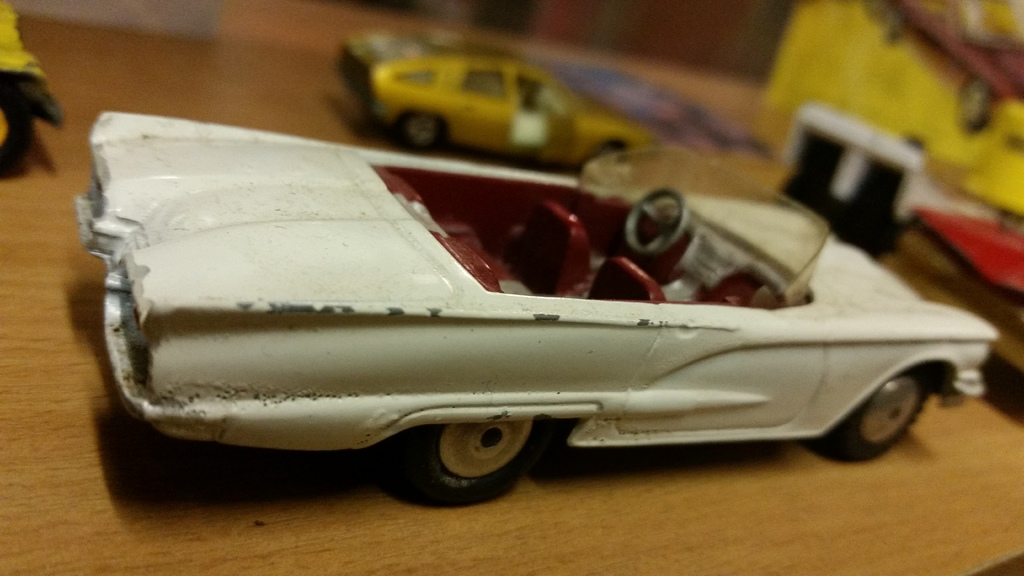Car: (59, 131, 986, 504), (338, 35, 661, 169), (775, 106, 983, 242), (881, 208, 1023, 376), (0, 0, 66, 178)
